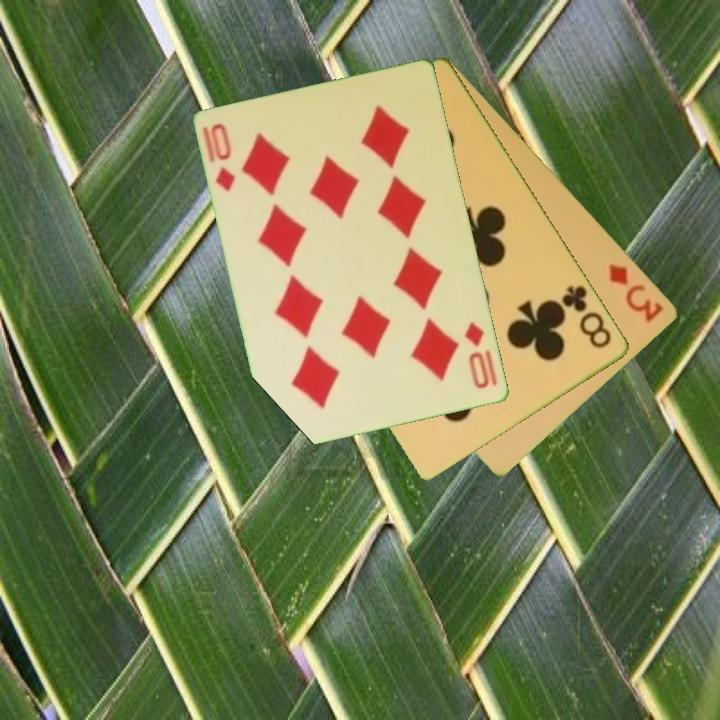10d: (461, 319, 501, 392), (207, 120, 239, 195)
3d: (605, 260, 667, 325)
8c: (558, 282, 615, 352)
